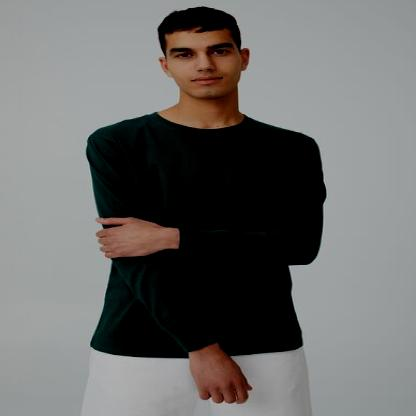dress: (67, 103, 341, 361)
jean: (69, 0, 358, 416)
